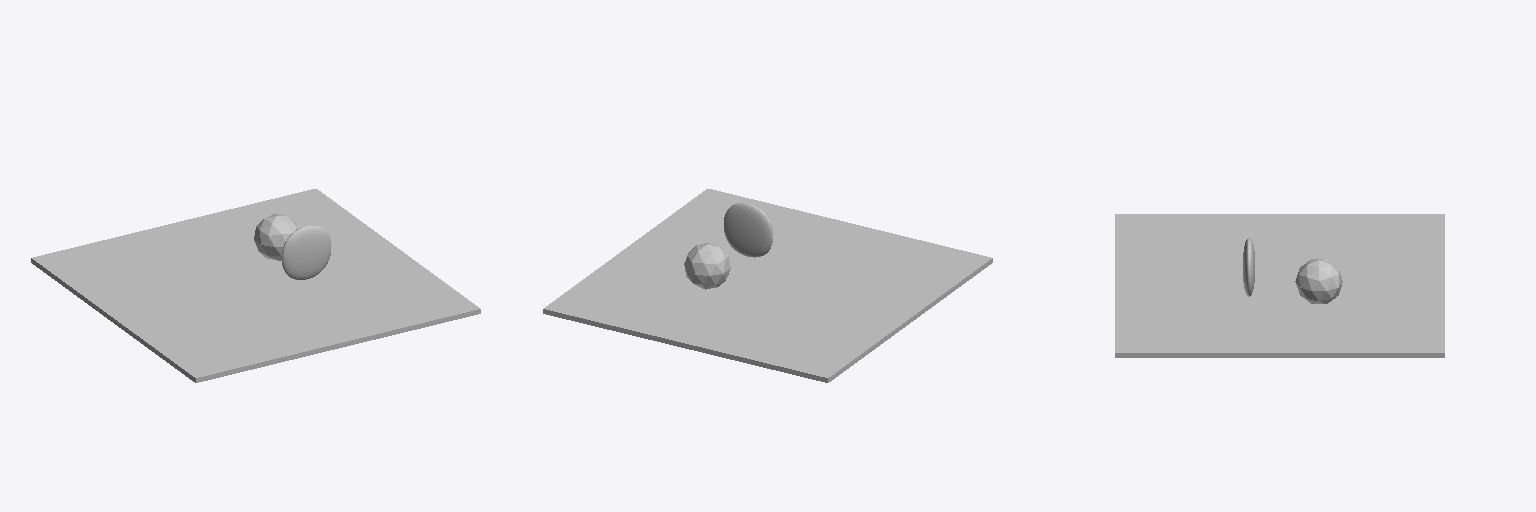
File: glass.obj
3 renders of one model, left to right at view 1: azimuth 30°, elevation 25°; view 2: azimuth 150°, elevation 25°; view 3: azimuth 270°, elevation 25°, orthographic.
Parts seen in each view (by area): view 1: Plane_Plane.001, Cube_Cube.001, Icosphere; view 2: Plane_Plane.001, Cube_Cube.001, Icosphere; view 3: Plane_Plane.001, Icosphere, Cube_Cube.001.
Part boxes in pixels (bbox=[...]): Plane_Plane.001: bbox=[31, 189, 480, 382]; Cube_Cube.001: bbox=[282, 226, 330, 279]; Icosphere: bbox=[254, 214, 297, 260]; Plane_Plane.001: bbox=[543, 189, 992, 382]; Cube_Cube.001: bbox=[724, 203, 772, 257]; Icosphere: bbox=[684, 243, 730, 289]; Plane_Plane.001: bbox=[1115, 214, 1444, 357]; Icosphere: bbox=[1295, 259, 1342, 303]; Cube_Cube.001: bbox=[1243, 238, 1254, 296].
Size of the model in its own units: 6 by 1.3 by 6.